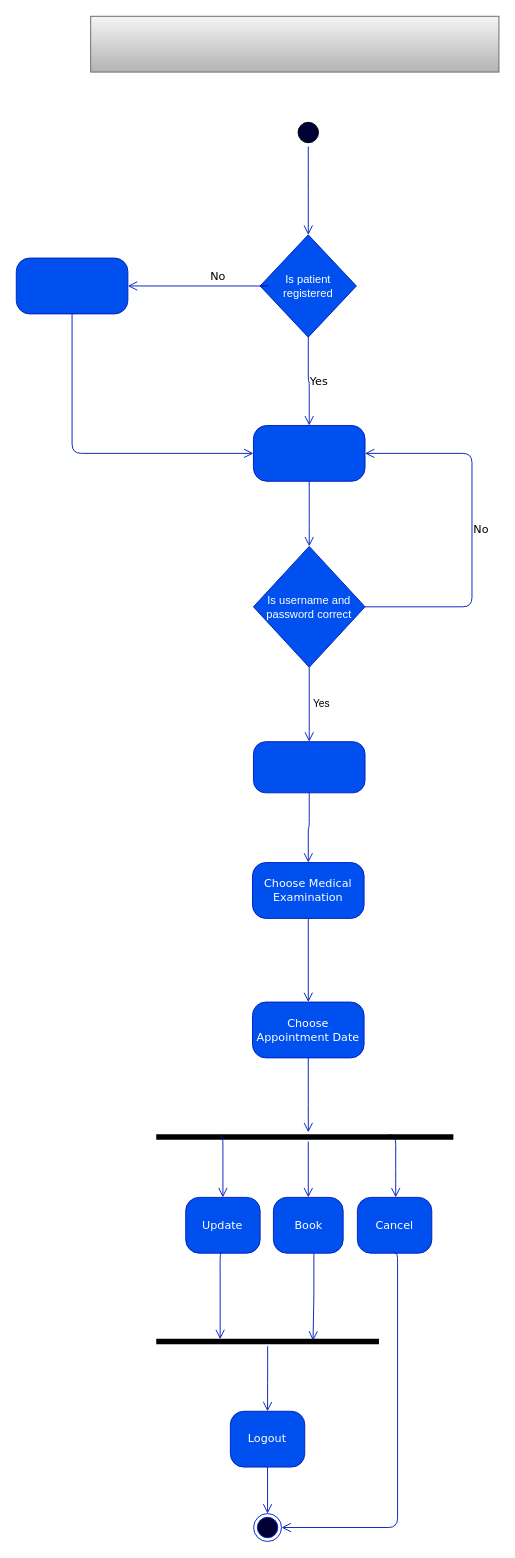
This 515x1558 diagram has some shape labels left out. Here are the shapes that lost their labels. From the top down, the centre of each, then its label:
At (294,43): "Activity Diagram".
At (71,285): "Register".
At (308,453): "Login".
At (308,767): "Set Appointment".
